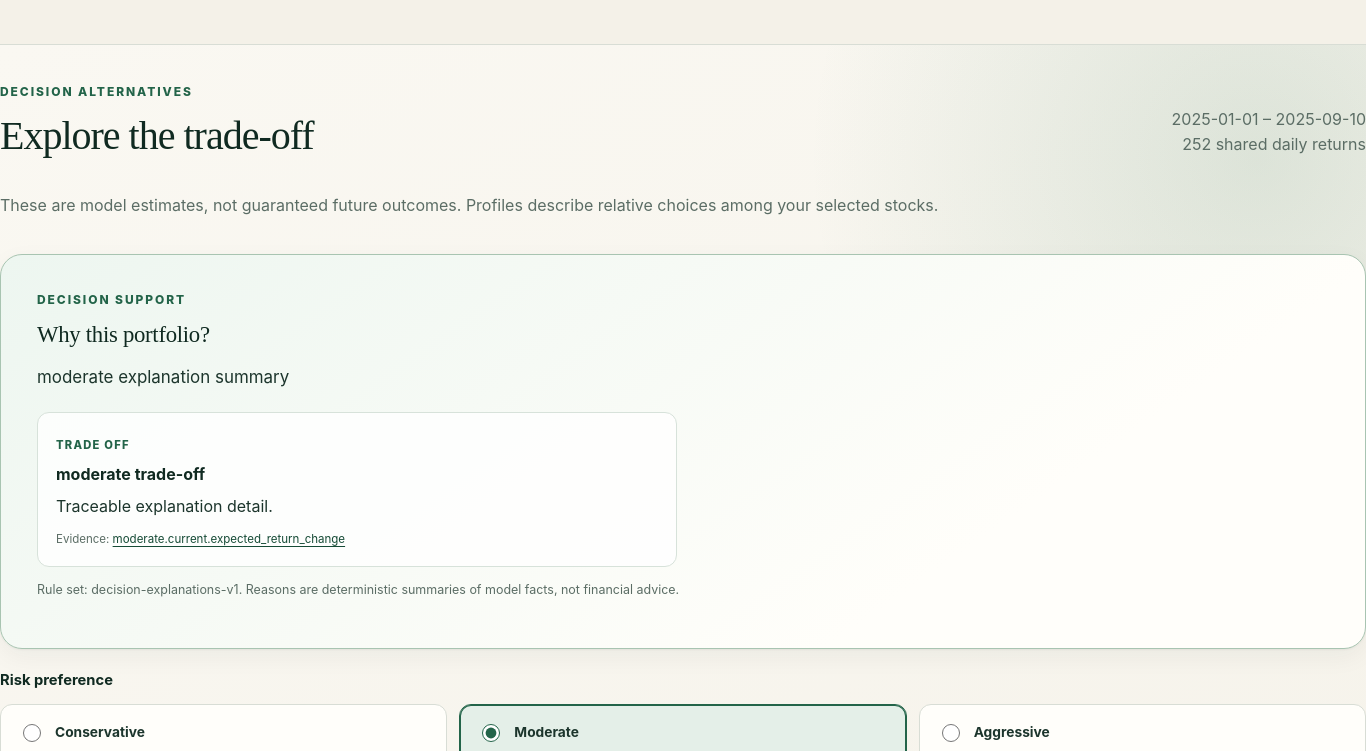
Test case: Frontier decision workspace › renders profile-specific structured explanations and evidence links
Expected: the text "moderate explanation summary" is shown, [37,367,289,387]
Expected: the heading "moderate trade-off" is shown, [56,464,205,484]
Click the link "moderate.current.expected_return_change" at [229, 539], box [113,532,345,546]
(page scrolled)
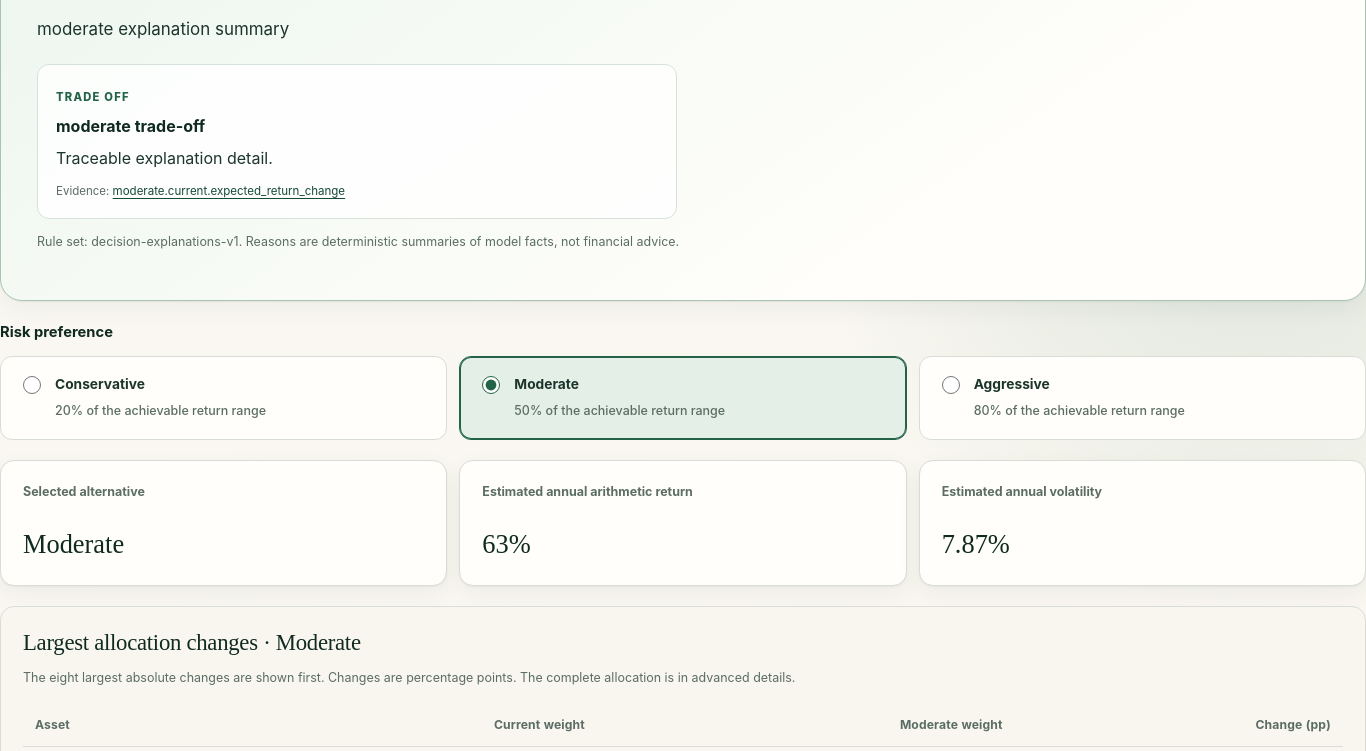
Click the radio button labelled "Aggressive 80% of the achievable return range" at [951, 384], box [942,376,960,394]
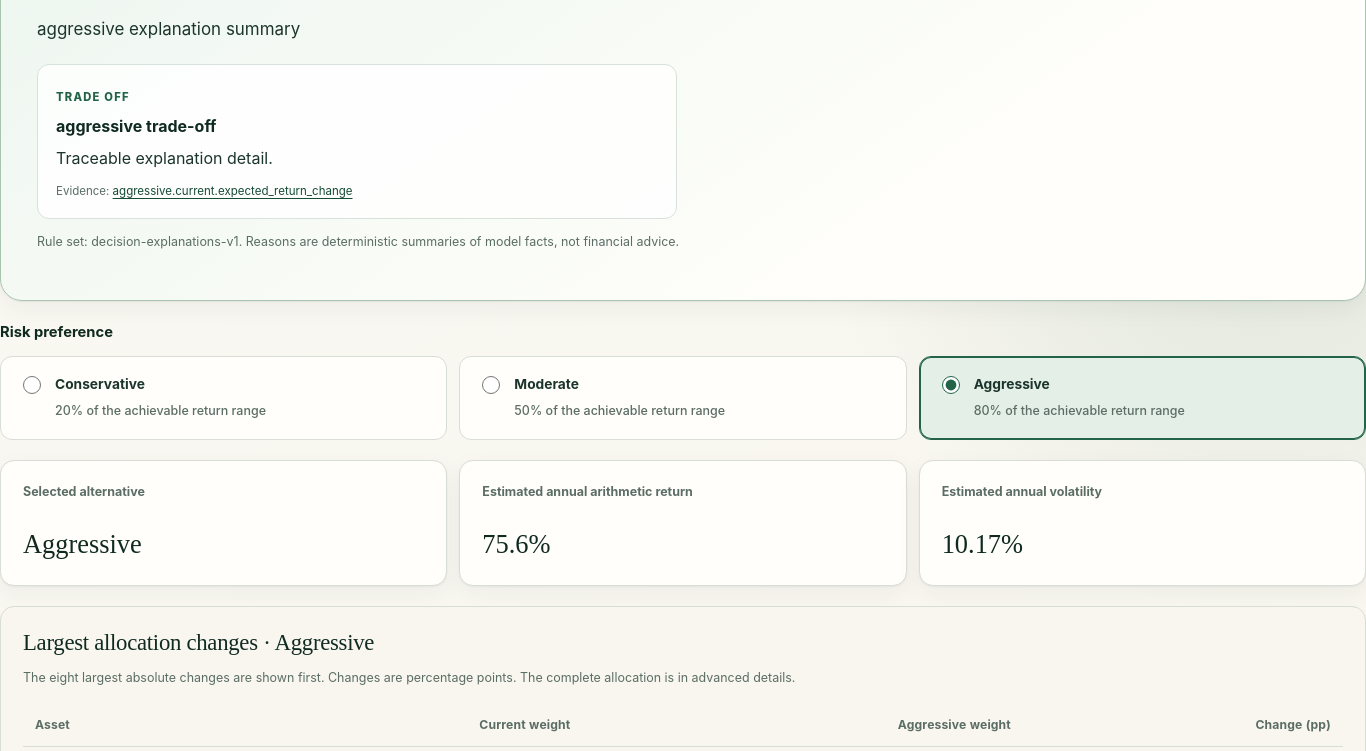
Now the text "aggressive explanation summary" is shown, box [37,19,300,39]
